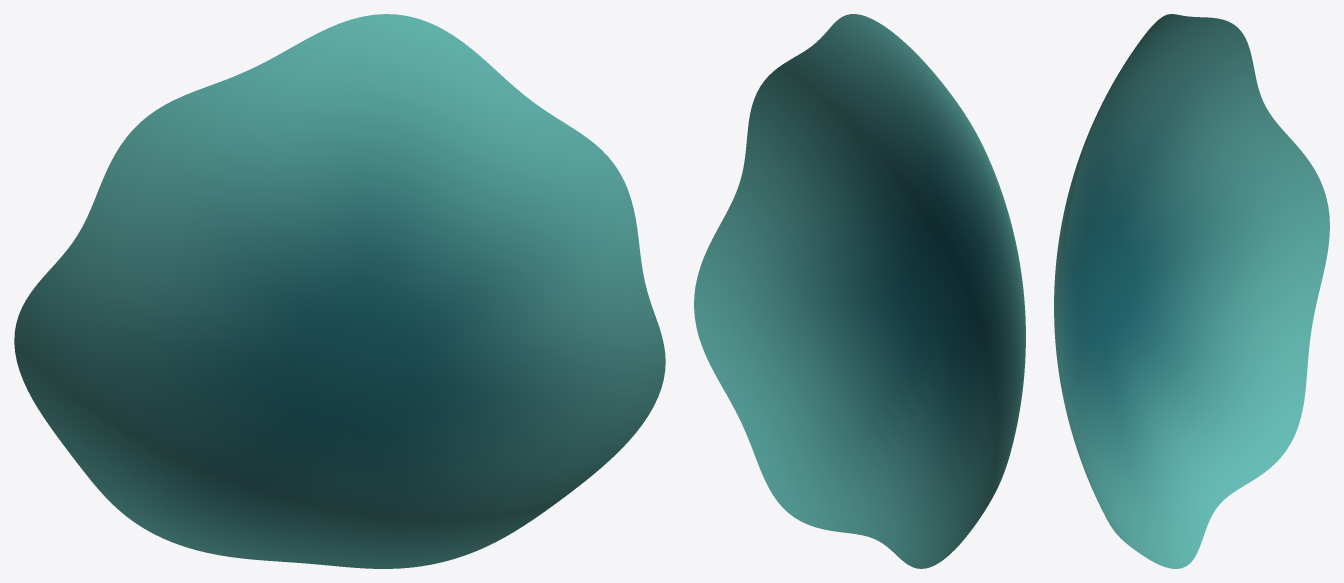
File: tidalsea.glb
3 renders of one model, left to right at view 1: azimuth 30°, elevation 25°; view 2: azimuth 150°, elevation 25°; view 3: azimuth 270°, elevation 25°, orthographic. The views are drawn at different scales.
Visible parts, largest first — view 1: TidalSea_water; view 2: TidalSea_water; view 3: TidalSea_water.
Part boxes in pixels (x1,y1,x2,y2): TidalSea_water: [14, 14, 665, 568]; TidalSea_water: [694, 14, 1025, 568]; TidalSea_water: [1054, 14, 1329, 568].
Size of the model in its own units: 4.45 by 4.84 by 2.38.
